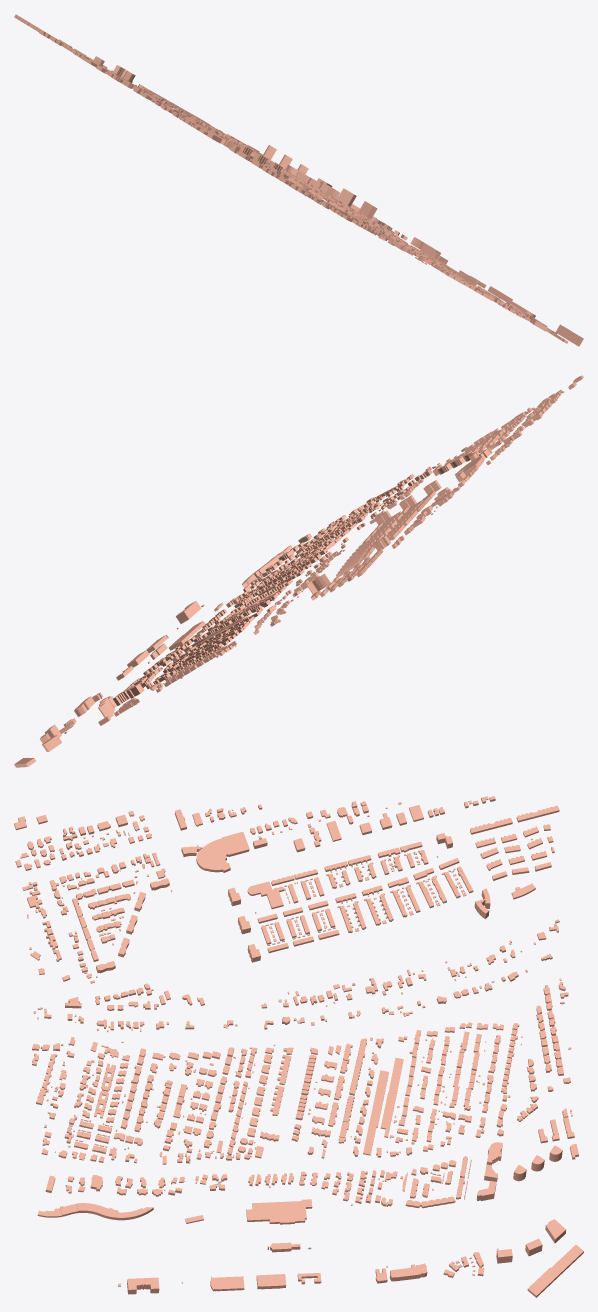
3 renders of one model, top to bottom at view 1: azimuth 30°, elevation 25°; view 2: azimuth 150°, elevation 25°; view 3: azimuth 270°, elevation 25°, orthographic. The views are drawn at different scales.
Size of the model in its own units: 1043 by 777 by 1271.
